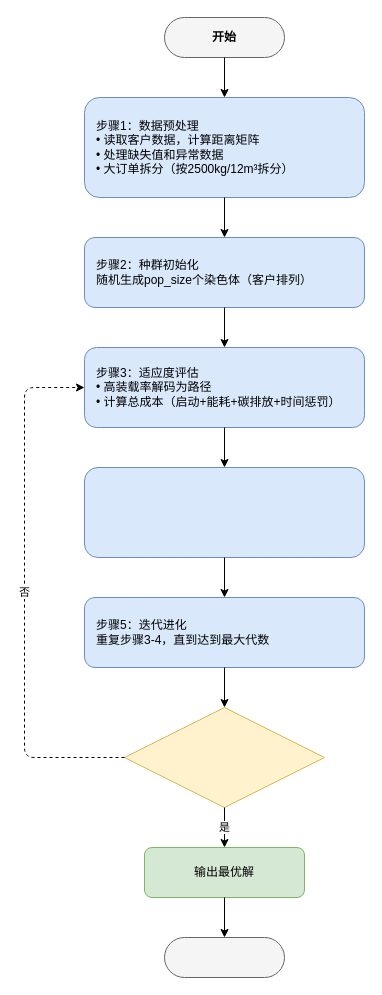
This 382x995 diagram has some shape labels left out. Here are the shapes that lost their labels. From the top down, the centre of each, then its label:
At point (224, 512): "步骤4：遗传操作 • 锦标赛选择（k=3） • PMX交叉（交叉率pc=0.8） • 交换变异（变异率pm=0.15）".
At point (224, 757): "达到最大代数？".
At point (224, 957): "结束".
